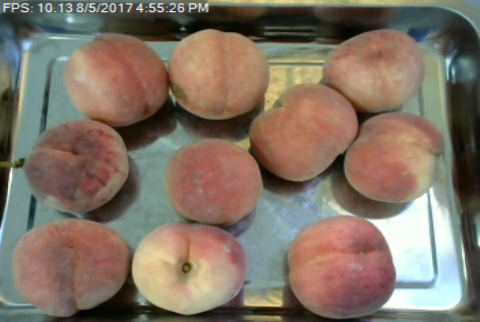Peach: (12, 217, 129, 316), (286, 216, 397, 318), (248, 82, 360, 181), (134, 222, 246, 316), (24, 117, 131, 213), (318, 26, 428, 115), (65, 32, 168, 126), (340, 112, 445, 203), (170, 29, 273, 120), (164, 137, 261, 225)
